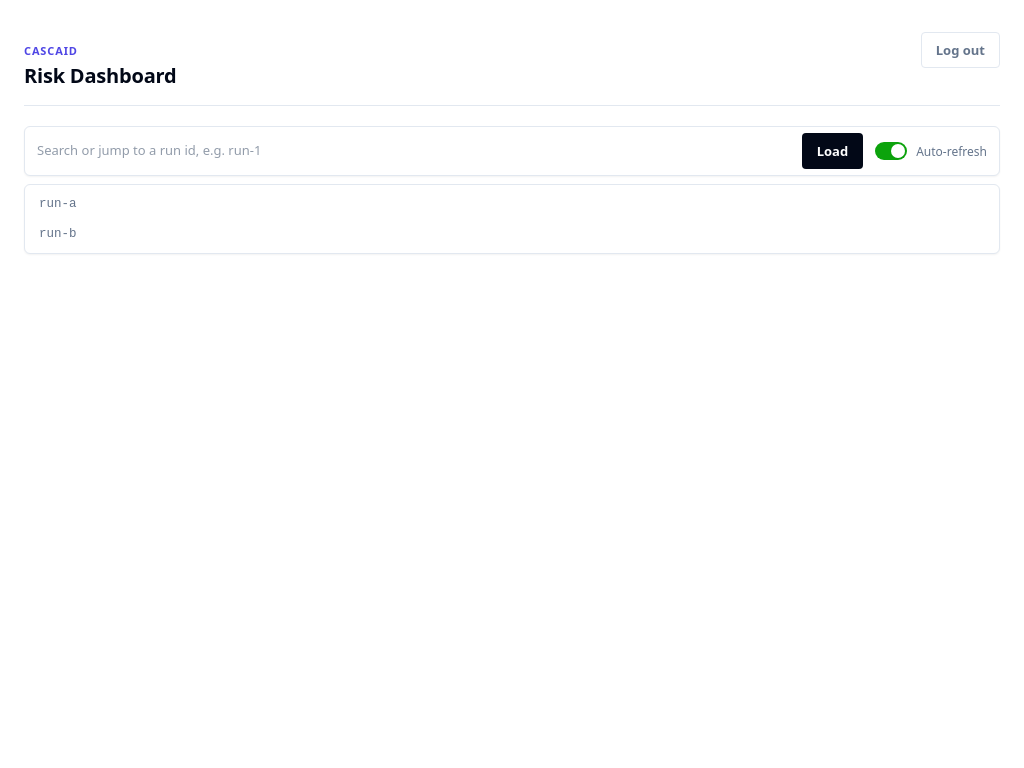
Test: App › lists known runs and loads one when clicked
The width and height of the screenshot is (1024, 768).
Click the button "run-b".
click(58, 234)  # box [29, 219, 995, 249]
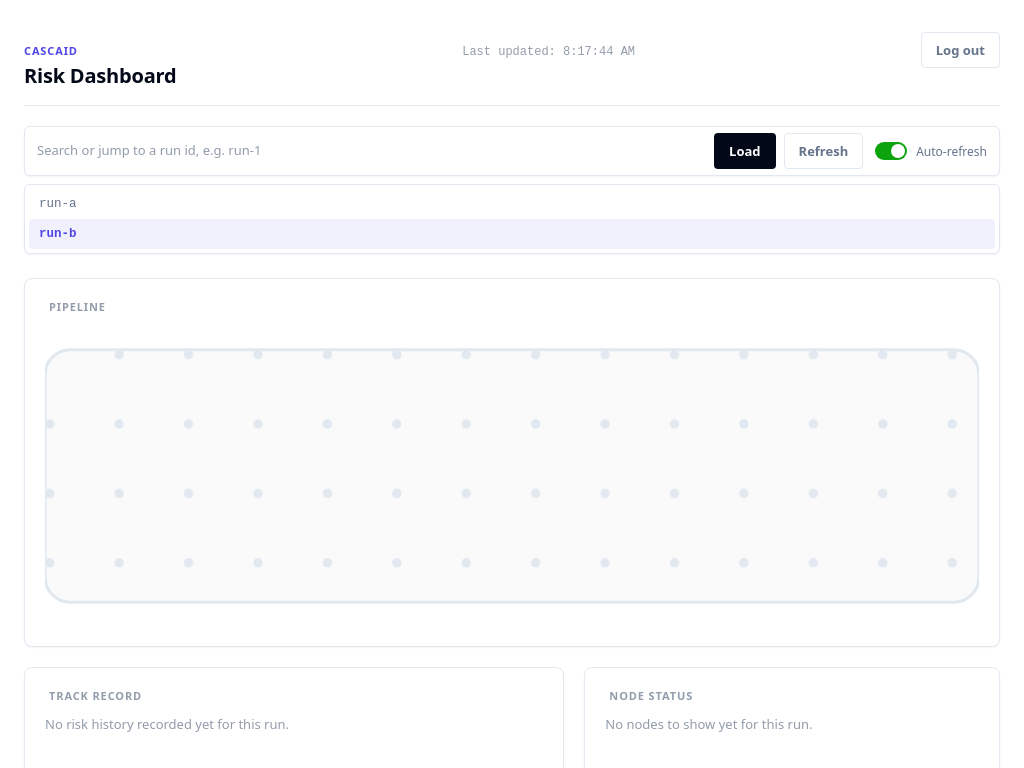
Expected: the picture named "pipeline risk graph" is shown, [45, 326, 979, 626]
